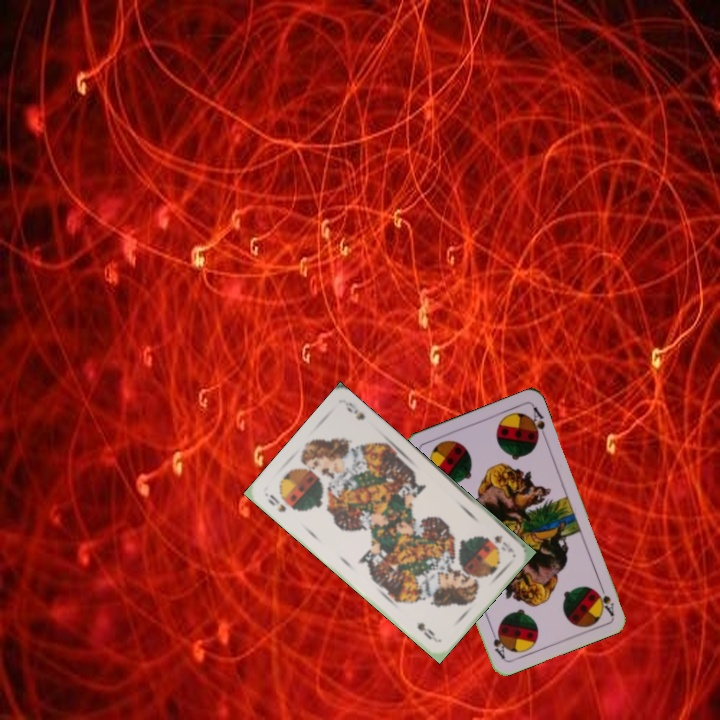SA: (593, 579, 617, 618)
SO: (262, 490, 289, 515), (490, 531, 516, 555)
